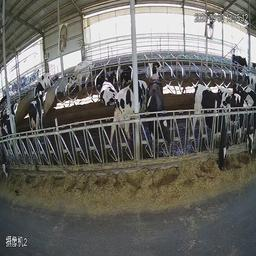cow: (192, 77, 228, 181), (214, 71, 254, 162), (146, 78, 170, 172), (121, 81, 142, 162), (24, 95, 46, 151), (1, 111, 17, 185), (65, 58, 92, 97), (100, 63, 119, 111), (27, 73, 55, 102), (229, 50, 250, 73), (146, 52, 163, 75), (120, 57, 134, 82)
